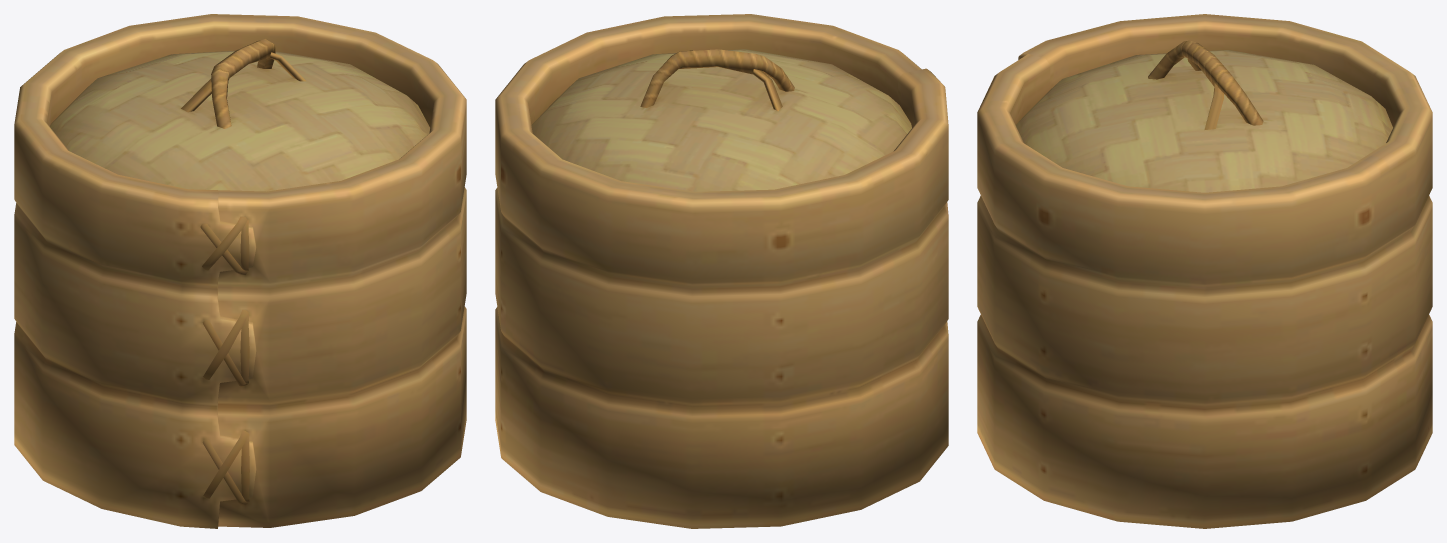
The model's file is FtrBasketsteamer.glb.
The picture shows the model from 3 angles, left to right: view 1: azimuth 30°, elevation 25°; view 2: azimuth 150°, elevation 25°; view 3: azimuth 270°, elevation 25°; orthographic projection.
Visible parts, largest first — view 1: basket1_low__mBody; view 2: basket1_low__mBody; view 3: basket1_low__mBody.
Boxes of the visible parts, x1,y1,x2,y2 form: basket1_low__mBody: (14, 14, 466, 528); basket1_low__mBody: (495, 14, 948, 528); basket1_low__mBody: (977, 14, 1432, 528).
Size of the model in its own units: 5.72 by 5.29 by 5.71.
1 material, 1 textured.
